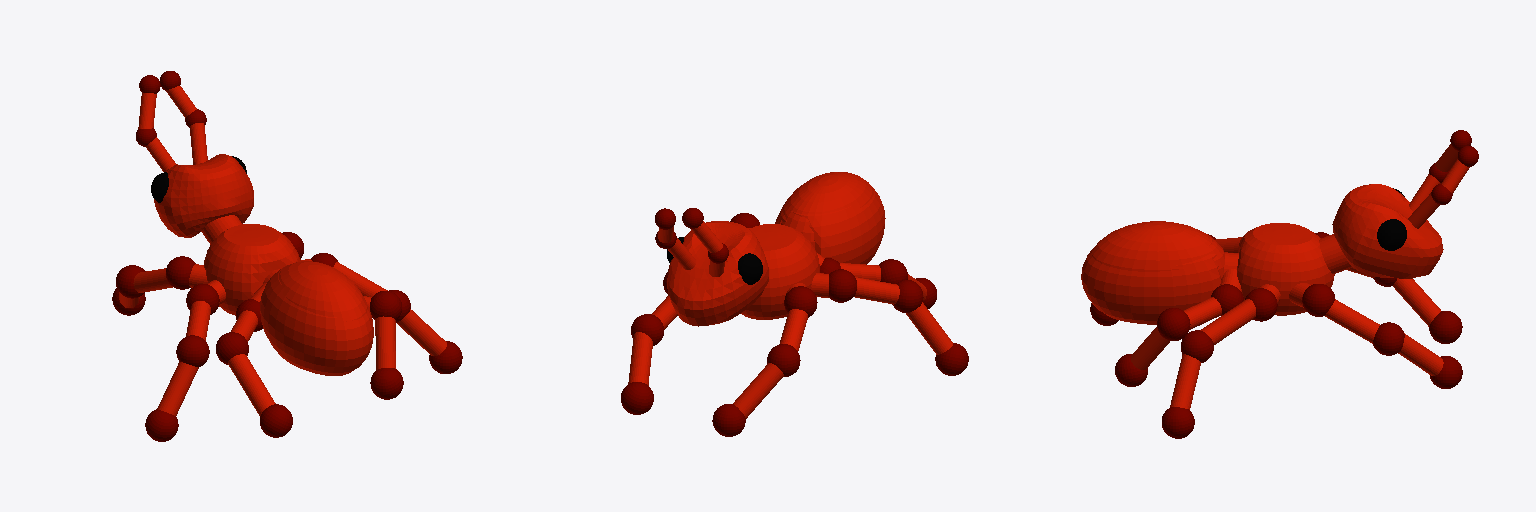
Rendered from robot_war.obj.
3 views of the same model, side by side, from view 1: azimuth 30°, elevation 25°; view 2: azimuth 150°, elevation 25°; view 3: azimuth 270°, elevation 25° (orthographic).
Parts seen in each view (by area): view 1: Sphere.002, Sphere, Sphere.001, Sphere.003, Cylinder.016_Cylinder.024, Cylinder.018_Cylinder.026, Cylinder.017_Cylinder.025, Cylinder.019_Cylinder.028, Sphere.018_Sphere.019, Sphere.019_Sphere.020, Sphere.021_Sphere.022, Sphere.010_Sphere.011 (+12 smaller); view 2: Sphere, Sphere.001, Sphere.002, Sphere.003, Cylinder.014_Cylinder.019, Cylinder.018_Cylinder.026, Cylinder.015_Cylinder.020, Cylinder.009_Cylinder.013, Sphere.016_Sphere.017, Sphere.017_Sphere.018, Sphere.007_Sphere.008, Sphere.021_Sphere.022 (+7 smaller); view 3: Sphere, Sphere.002, Sphere.001, Sphere.003, Cylinder.008_Cylinder.012, Cylinder.011_Cylinder.016, Cylinder.019_Cylinder.028, Cylinder.014_Cylinder.019, Cylinder.015_Cylinder.020, Sphere.014_Sphere.015, Sphere.020_Sphere.021, Sphere.017_Sphere.018 (+11 smaller).
Boxes of the visible parts, x1,y1,x2,y2 form: Sphere.002: [260, 266, 373, 375]; Sphere: [154, 154, 253, 237]; Sphere.001: [204, 224, 300, 315]; Sphere.003: [279, 261, 367, 321]; Cylinder.016_Cylinder.024: [228, 354, 275, 415]; Cylinder.018_Cylinder.026: [157, 362, 198, 415]; Cylinder.017_Cylinder.025: [375, 316, 395, 369]; Cylinder.019_Cylinder.028: [397, 309, 446, 355]; Sphere.018_Sphere.019: [260, 404, 292, 437]; Sphere.019_Sphere.020: [370, 368, 403, 399]; Sphere.021_Sphere.022: [145, 409, 178, 441]; Sphere.010_Sphere.011: [176, 335, 209, 367]; Sphere: [667, 221, 768, 326]; Sphere.001: [741, 224, 819, 319]; Sphere.002: [775, 188, 885, 264]; Sphere.003: [781, 172, 873, 247]; Cylinder.014_Cylinder.019: [733, 363, 783, 418]; Cylinder.018_Cylinder.026: [906, 302, 952, 354]; Cylinder.015_Cylinder.020: [628, 332, 652, 385]; Cylinder.009_Cylinder.013: [854, 277, 899, 304]; Sphere.016_Sphere.017: [621, 382, 653, 414]; Sphere.017_Sphere.018: [712, 404, 745, 436]; Sphere.007_Sphere.008: [829, 269, 856, 302]; Sphere.021_Sphere.022: [935, 343, 968, 375]; Sphere: [1332, 184, 1443, 278]; Sphere.002: [1081, 234, 1220, 324]; Sphere.001: [1237, 223, 1334, 315]; Sphere.003: [1091, 221, 1224, 278]; Cylinder.008_Cylinder.012: [1200, 299, 1255, 344]; Cylinder.011_Cylinder.016: [1325, 299, 1379, 343]; Cylinder.019_Cylinder.028: [1170, 354, 1200, 409]; Cylinder.014_Cylinder.019: [1393, 279, 1440, 326]; Cylinder.015_Cylinder.020: [1398, 333, 1443, 375]; Sphere.014_Sphere.015: [1157, 308, 1190, 340]; Sphere.020_Sphere.021: [1162, 407, 1194, 438]; Sphere.017_Sphere.018: [1429, 311, 1462, 343].
Size of the model in its own units: 7.31 by 5.35 by 8.21.